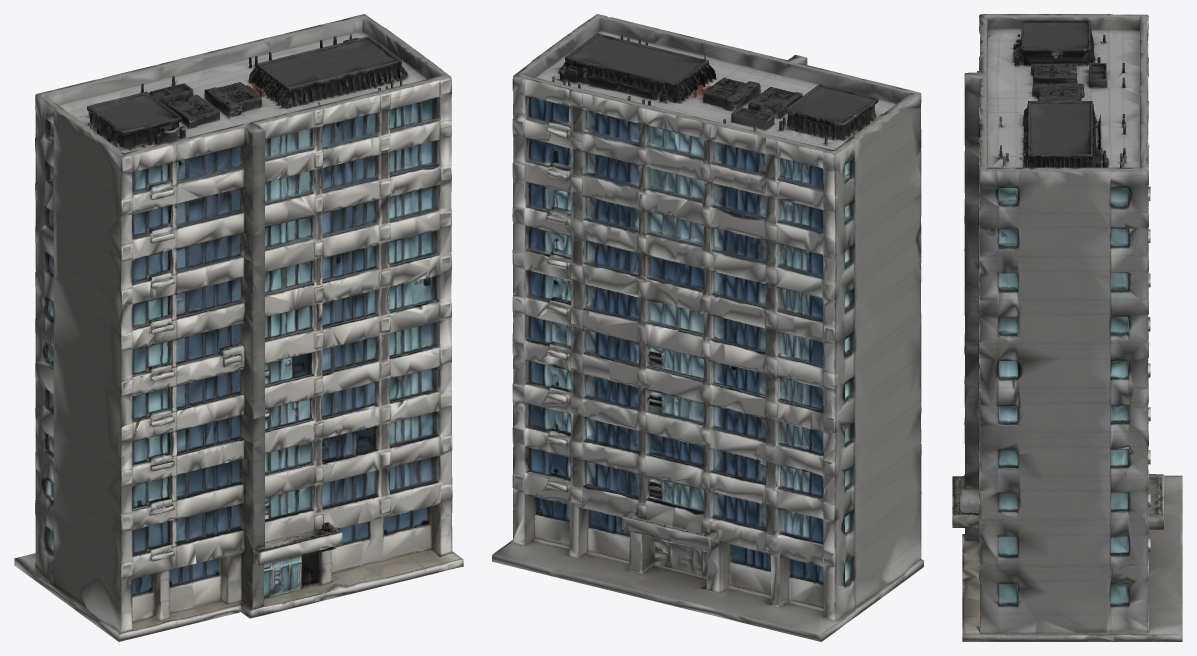
File: panel-tower.glb
3 renders of one model, left to right at view 1: azimuth 30°, elevation 25°; view 2: azimuth 150°, elevation 25°; view 3: azimuth 270°, elevation 25°, orthographic. The views are drawn at different scales.
Size of the model in its own units: 1.37 by 1.9 by 0.8367.
Materials: 1 (1 with a texture image).
